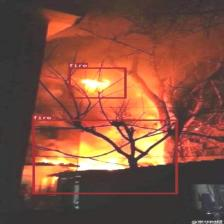fire: (32, 119, 177, 194), (68, 68, 126, 99)
